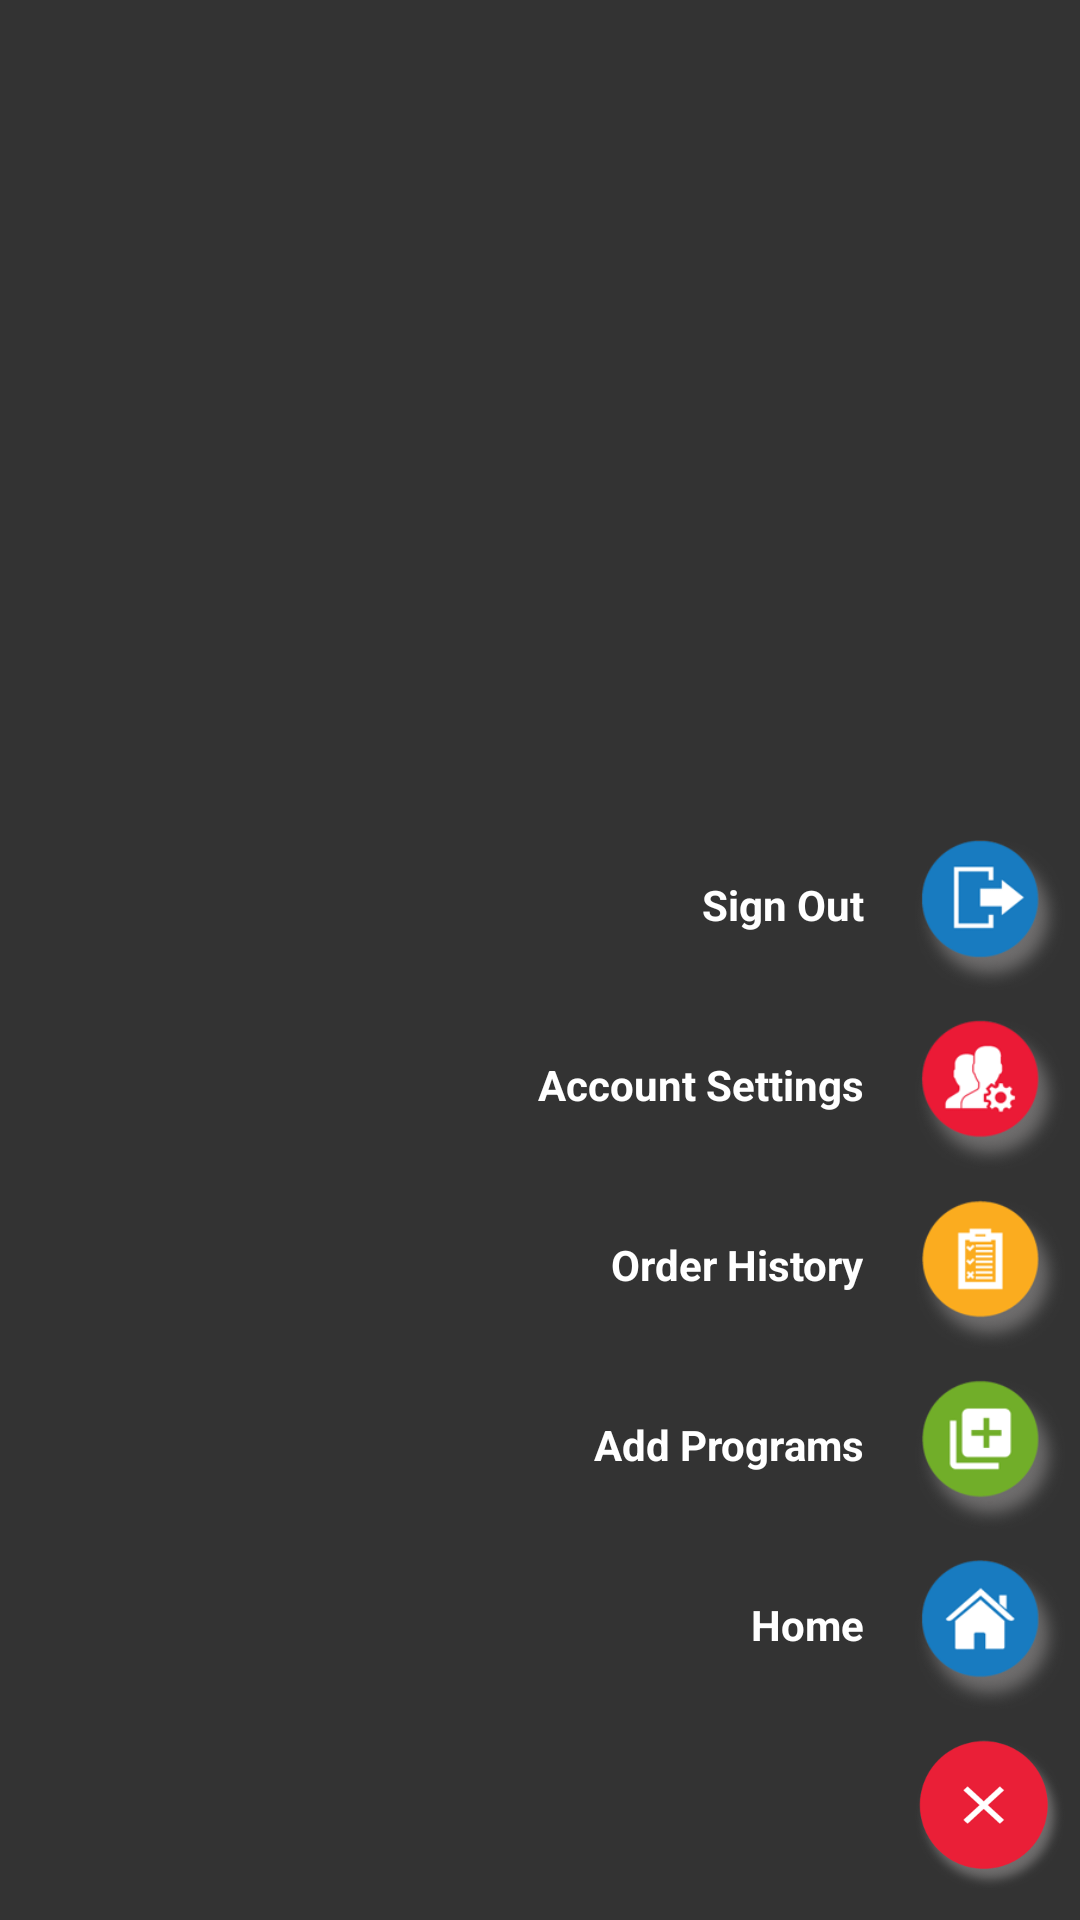

Icon bounding boxes for this 1080 x 1920 phone screenshot, format [x1, y1, x2, y2]:
toggle close: [919, 1741, 1055, 1880]
